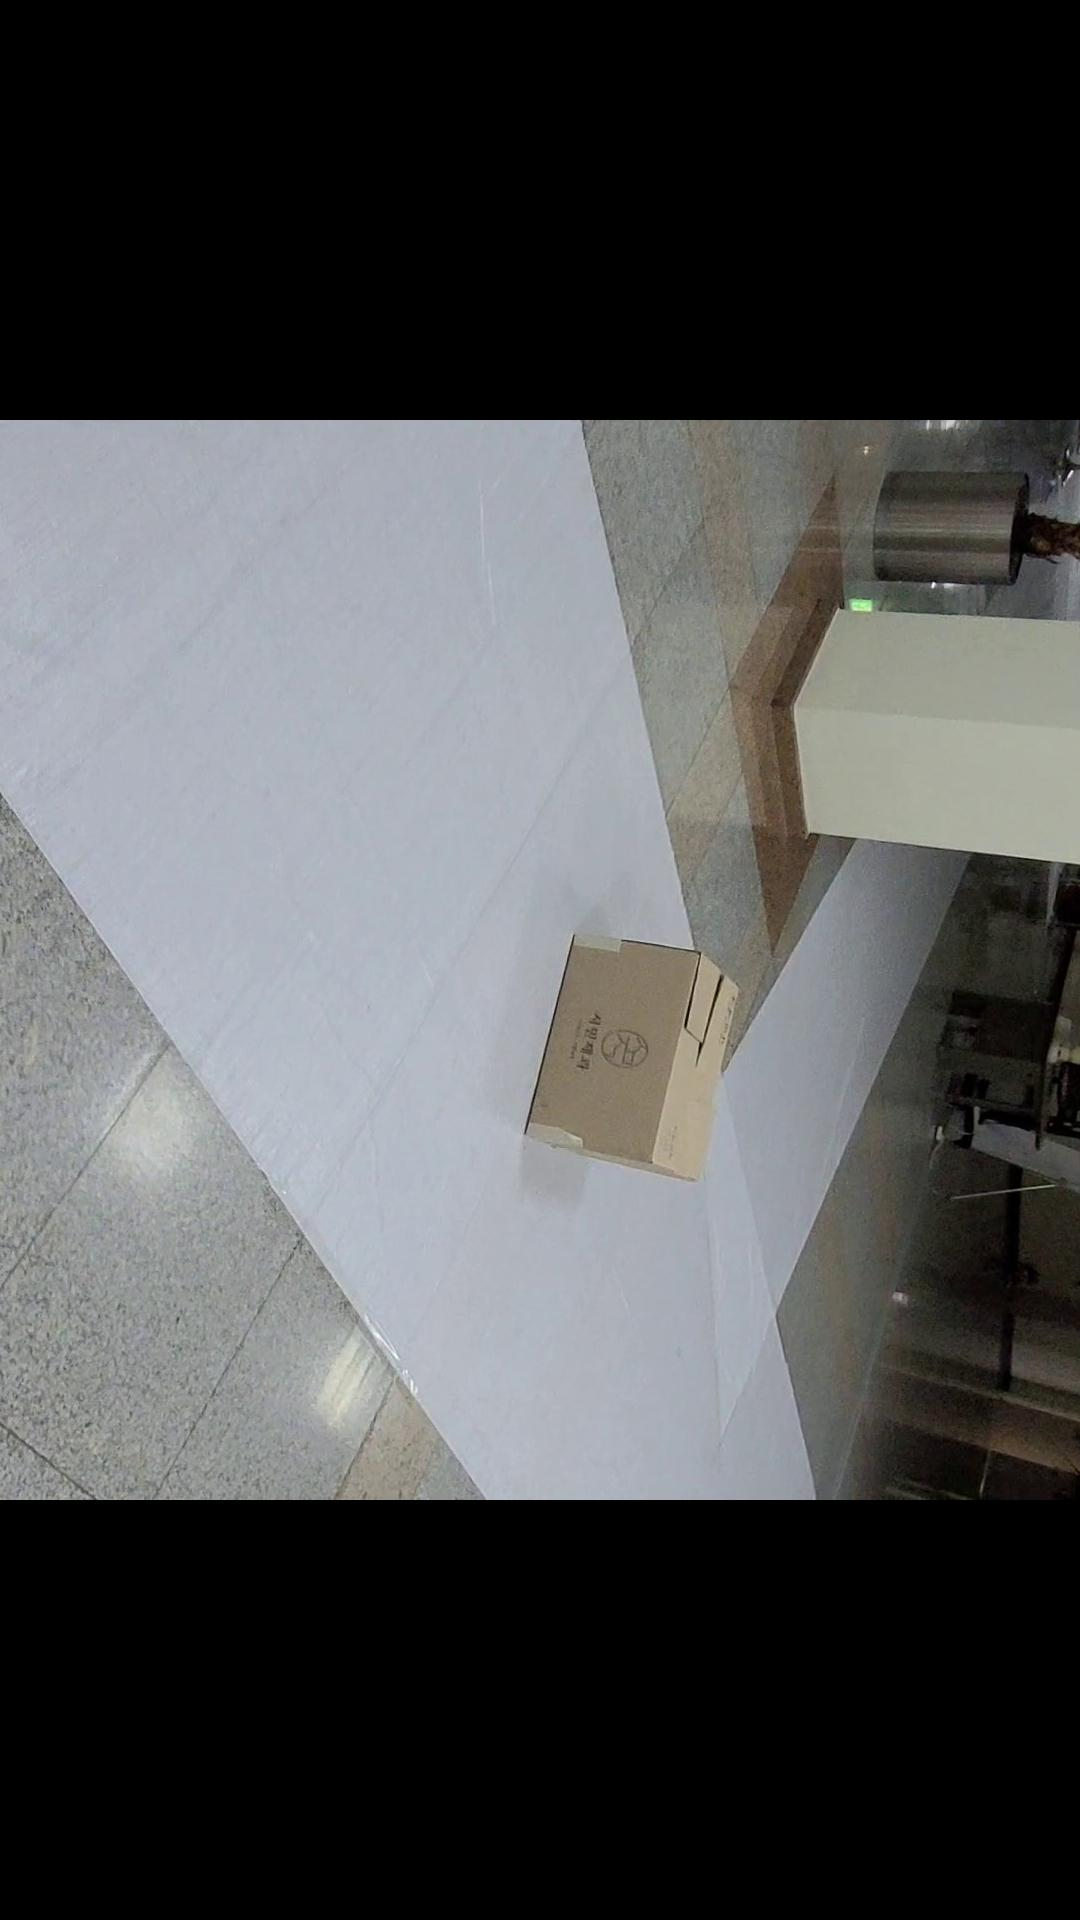Box: (495, 893, 760, 1234)
